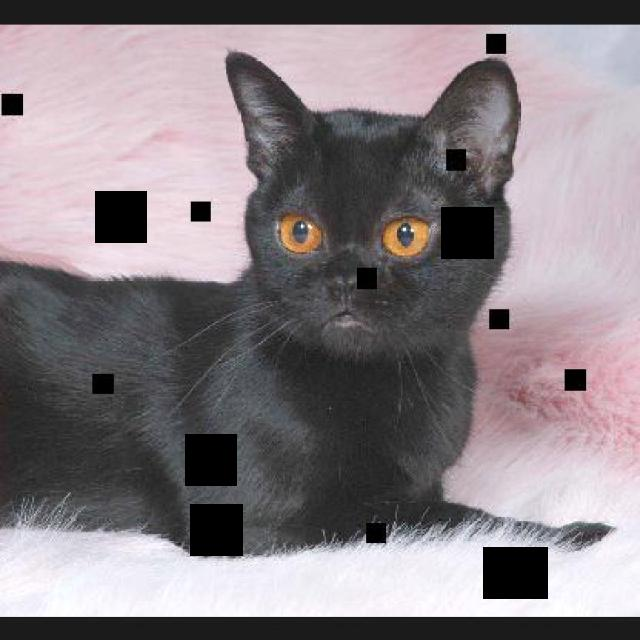unauthorized: (0, 47, 615, 560)
